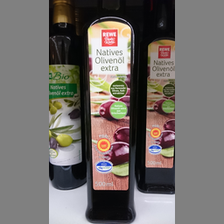oil: (87, 1, 136, 223), (137, 1, 174, 196), (50, 1, 87, 191)
